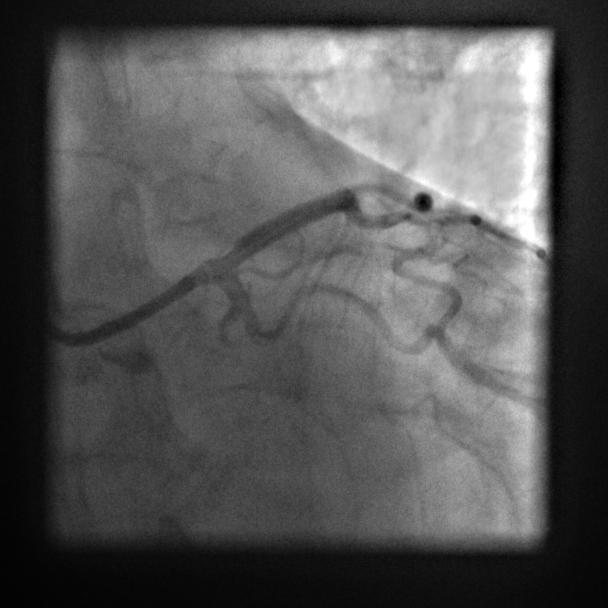Stenosis: (207, 241, 244, 262)
